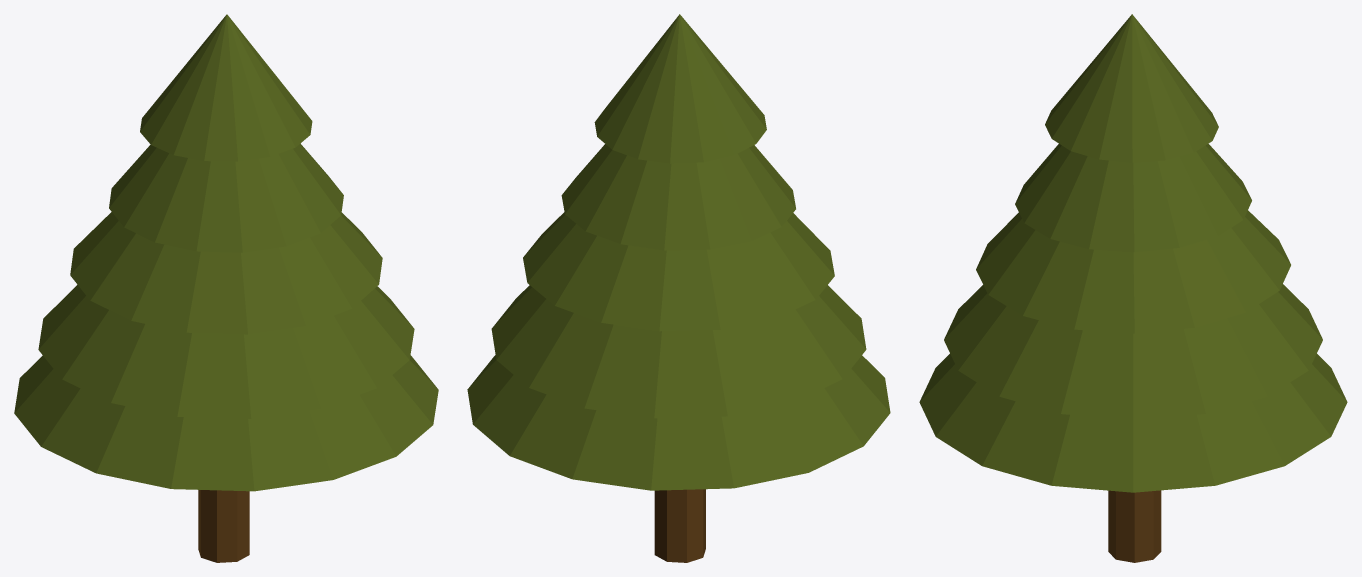
The model's file is tree03.glb.
3 views of the same model, side by side, from view 1: azimuth 30°, elevation 25°; view 2: azimuth 150°, elevation 25°; view 3: azimuth 270°, elevation 25° (orthographic).
Visible parts, largest first — view 1: Cone, Cylinder; view 2: Cone, Cylinder; view 3: Cone, Cylinder.
Part boxes in pixels (x1,y1,x2,y2): Cone: (14,14,438,491); Cylinder: (198,490,249,562); Cone: (467,14,890,490); Cylinder: (654,489,705,562); Cone: (919,14,1347,492); Cylinder: (1108,490,1161,562).
Size of the model in its own units: 4.81 by 6.67 by 4.81.
